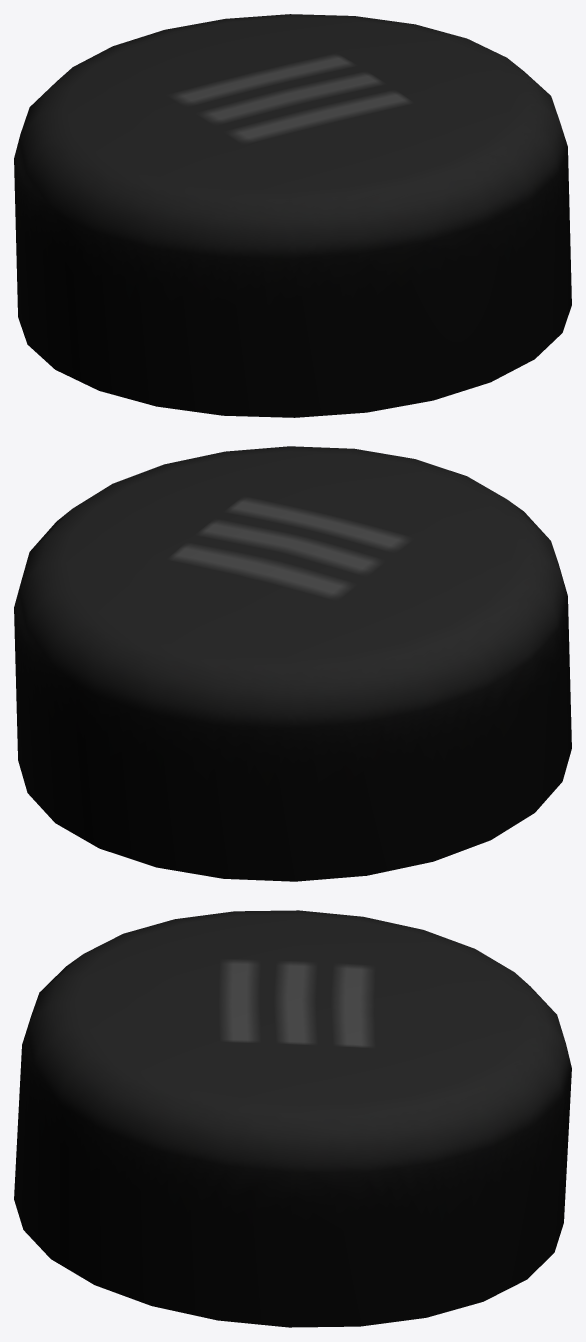
File: vive_button.fbx
3 renders of one model, top to bottom at view 1: azimuth 30°, elevation 25°; view 2: azimuth 150°, elevation 25°; view 3: azimuth 270°, elevation 25°, orthographic.
Visible parts, largest first — view 1: menu_but group1; view 2: menu_but group1; view 3: menu_but group1.
Part boxes in pixels (left/top/right/bottom): menu_but group1: left=14, top=14, right=571, bottom=417; menu_but group1: left=14, top=446, right=571, bottom=881; menu_but group1: left=14, top=910, right=571, bottom=1327.
Size of the model in its own units: 0.9986 by 0.4496 by 1.01.
1 material, 1 textured.
